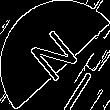N_SE: (25, 23, 85, 87)
